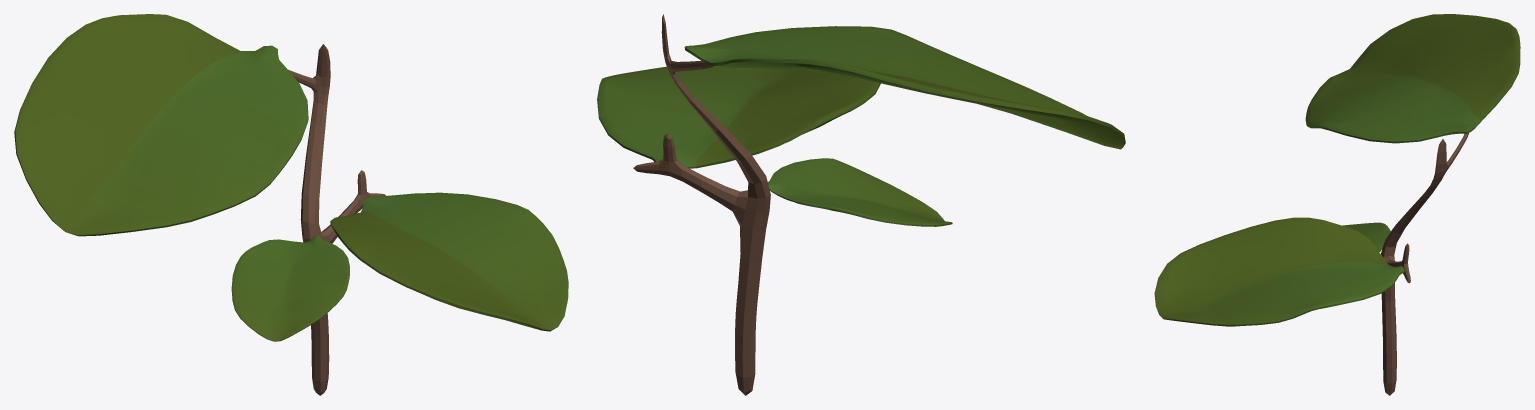
Rendered from leaves.glb.
The picture shows the model from 3 angles, left to right: view 1: azimuth 30°, elevation 25°; view 2: azimuth 150°, elevation 25°; view 3: azimuth 270°, elevation 25°; orthographic projection. The views are drawn at different scales.
Parts seen in each view (by area): view 1: Plane.006, Plane.005, Plane.004, Cube.004; view 2: Plane.005, Plane.006, Cube.004, Plane.004; view 3: Plane.006, Plane.005, Cube.004, Plane.004.
Boxes of the visible parts, x1,y1,x2,y2 form: Plane.006: (14, 14, 308, 236); Plane.005: (330, 192, 568, 331); Plane.004: (231, 235, 349, 341); Cube.004: (288, 44, 386, 395); Plane.005: (597, 66, 880, 168); Plane.006: (684, 26, 1125, 149); Cube.004: (633, 14, 770, 395); Plane.004: (767, 158, 952, 226); Plane.006: (1305, 14, 1520, 143); Plane.005: (1154, 217, 1404, 326); Cube.004: (1381, 133, 1468, 395); Plane.004: (1343, 222, 1390, 251).
Bounding box in the file's own units: 1.2 × 0.8874 × 0.9742.
Materials: 1 (1 with a texture image).
